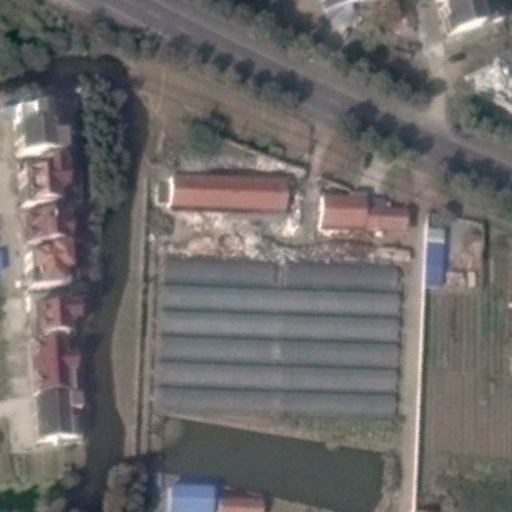msw: (169, 207, 406, 266)
